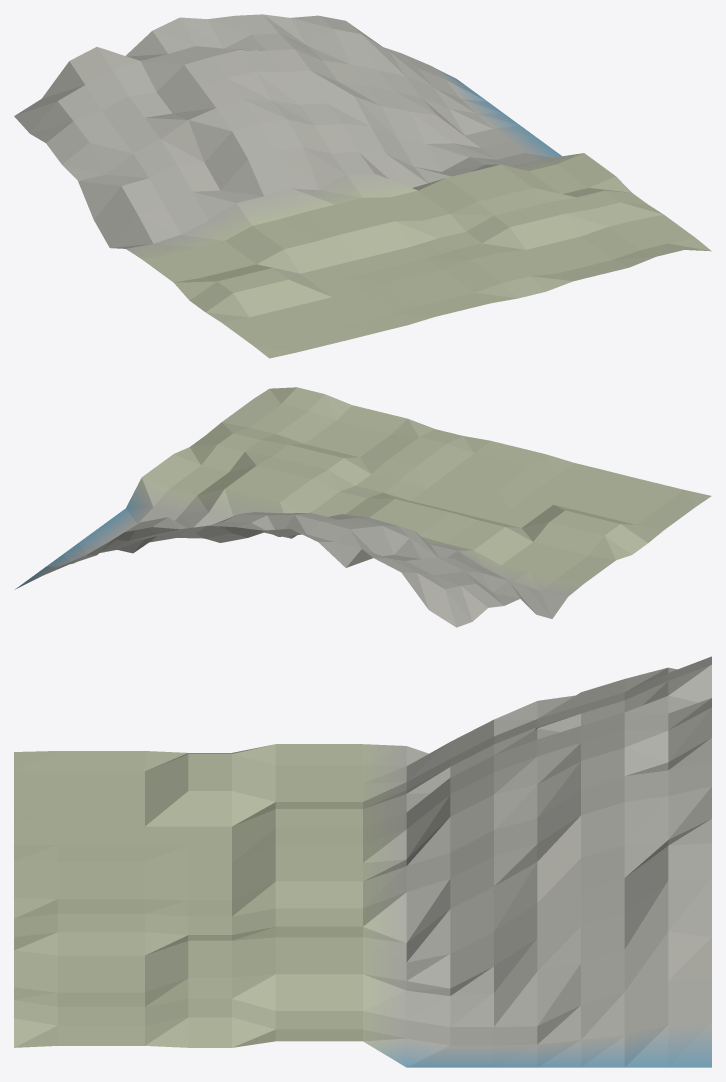
3 renders of one model, top to bottom at view 1: azimuth 30°, elevation 25°; view 2: azimuth 150°, elevation 25°; view 3: azimuth 270°, elevation 25°, orthographic. The views are drawn at different scales.
Bounding box in the file's own units: 32 × 8.89 × 32.
